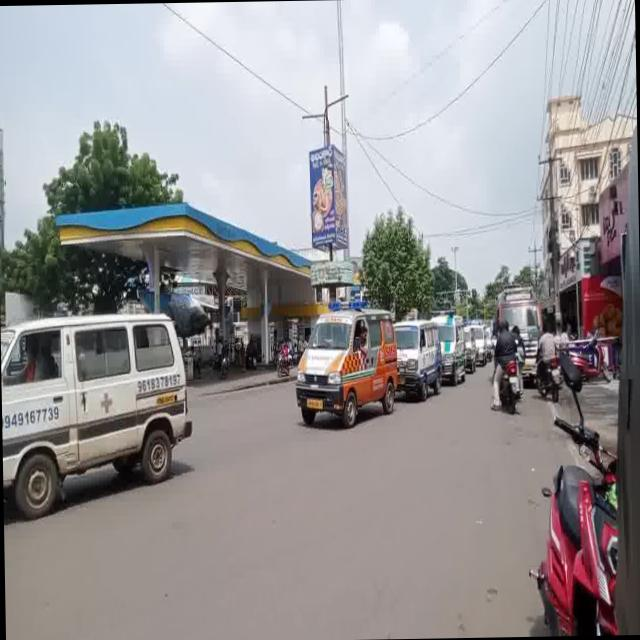ambulance: (0, 310, 197, 533), (292, 302, 396, 432), (405, 307, 437, 404), (493, 276, 554, 326), (449, 312, 464, 374)
